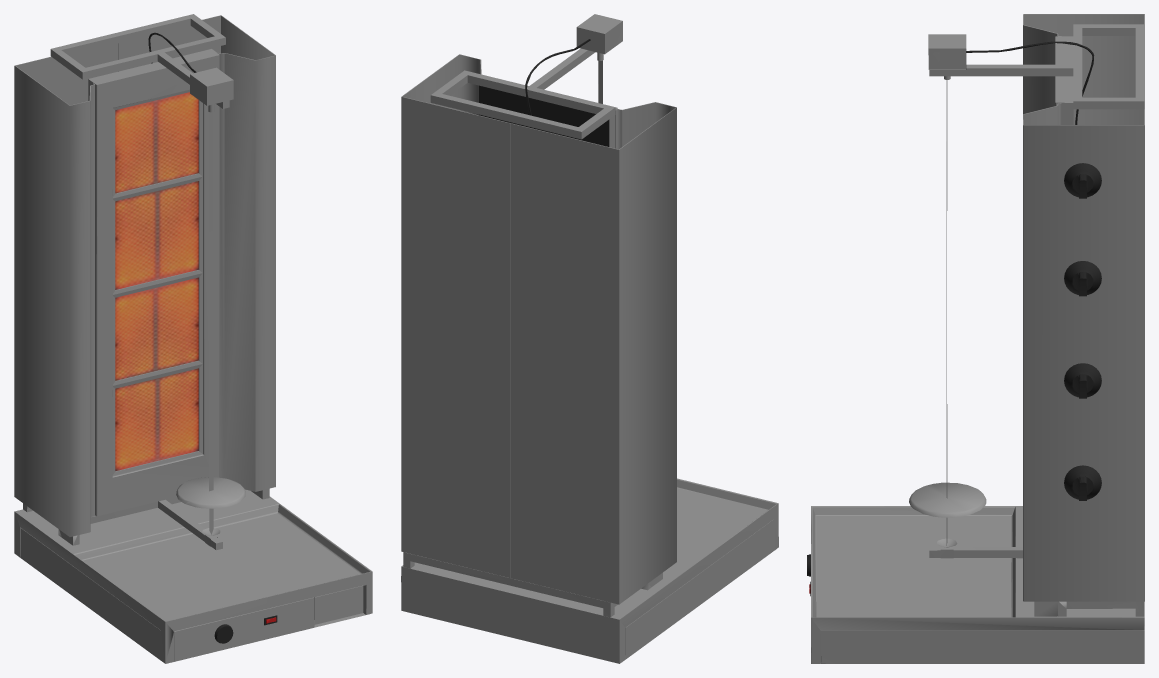
File: Doner machine.FBX
3 renders of one model, left to right at view 1: azimuth 30°, elevation 25°; view 2: azimuth 150°, elevation 25°; view 3: azimuth 270°, elevation 25°, orthographic. The views are drawn at different scales.
Parts seen in each view (by area): view 1: doner machine; view 2: doner machine; view 3: doner machine.
Boxes of the visible parts, bbox=[...] form: doner machine: bbox=[14, 14, 372, 663]; doner machine: bbox=[401, 14, 778, 663]; doner machine: bbox=[807, 14, 1144, 663].
Size of the model in its own units: 51.41 by 112 by 60.27.
2 materials, 1 textured.
